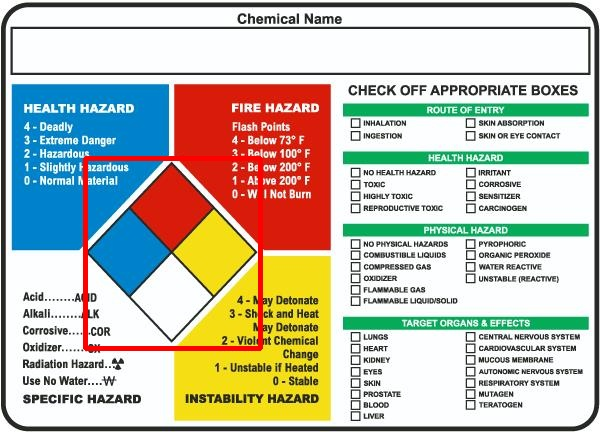nfpa: (85, 158, 260, 348)
